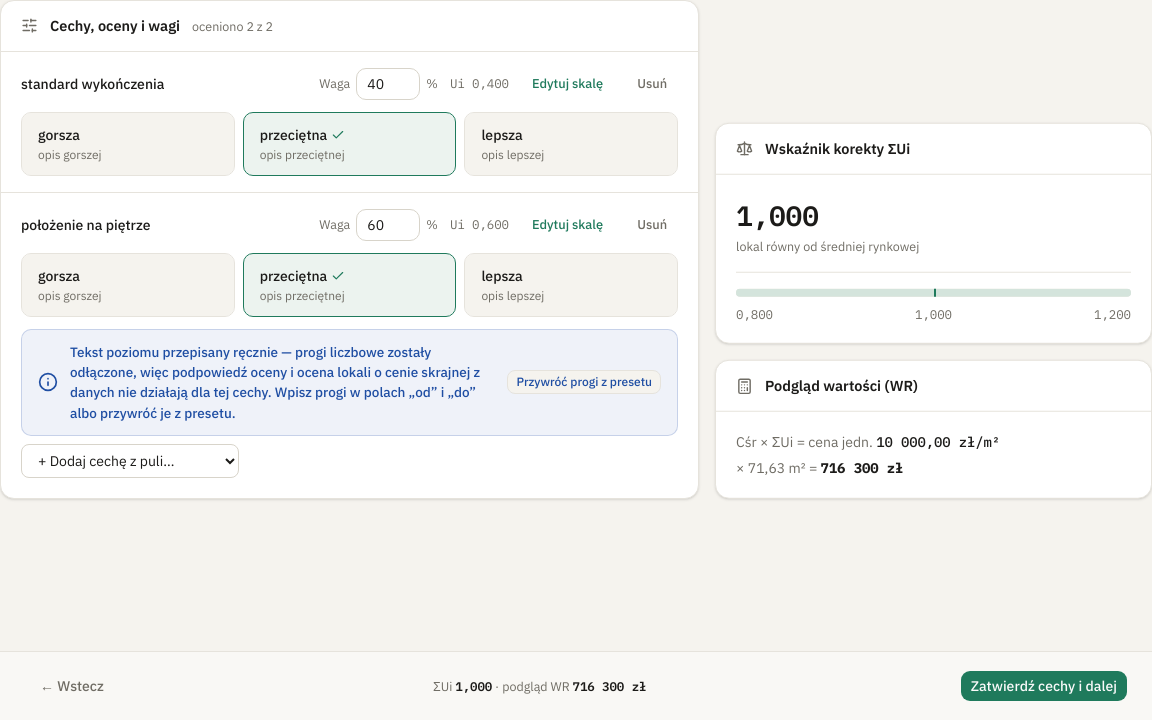
Test: StepFeatures — live ΣUi/WR sidebar (Task 9) › shows the live ΣUi/WR preview and recomputes it when a rating changes
This screenshot has width=1152, height=720.
Check: the text with test id "sidebar-sum-ui" reads "1,000", box top-left (736, 196), bottom-right (819, 234)
Check: the text with test id "sidebar-wr-preview" shows "zł", box top-left (821, 459), bottom-right (903, 477)
Click the radio button labelled "lepsza opis lepszej" below "0,400": click(571, 144) top-left (464, 112), bottom-right (678, 176)
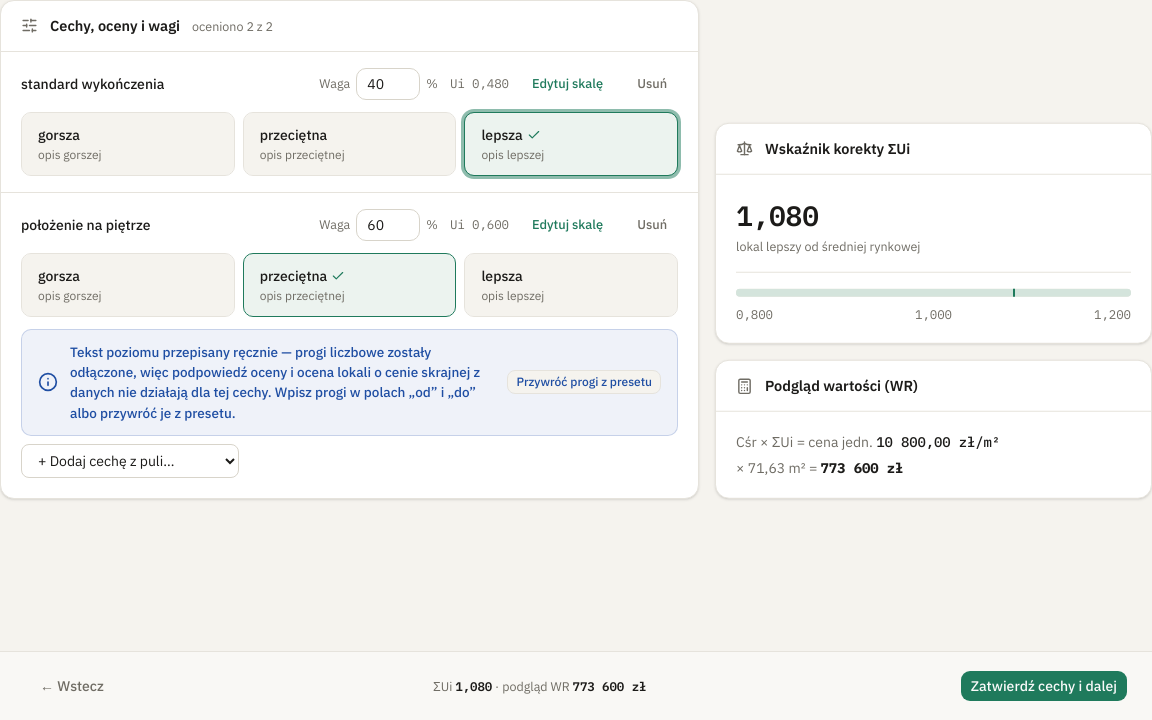
Check: the text with test id "sidebar-wr-preview" shows "zł", box top-left (821, 459), bottom-right (903, 477)
Check: the text with test id "sidebar-sum-ui" reads "1,080", box top-left (736, 196), bottom-right (819, 234)
Check: the element with test id "footnav-kcs-mid" shows "1,080", box top-left (455, 678), bottom-right (492, 694)
